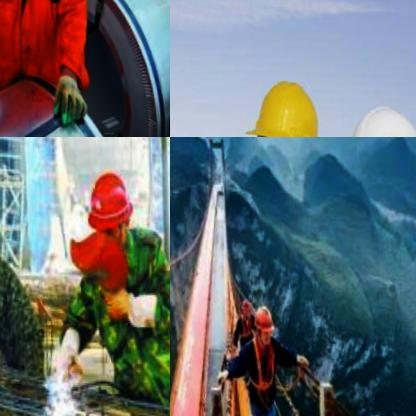helmet: (233, 49, 340, 137), (78, 156, 142, 255), (329, 70, 416, 137), (251, 296, 286, 349)
